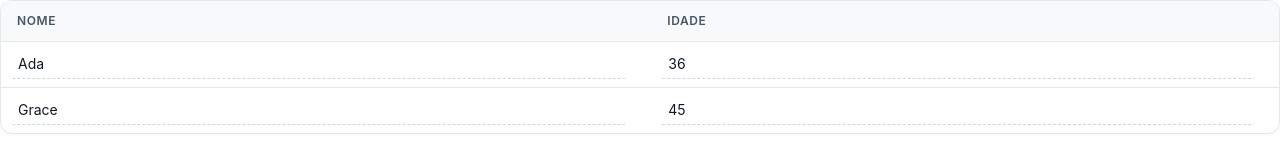
Test: DataTable — Tab walks the editable cells › closes and restores focus past the last editable cell
Click the button named "Editar Idade: 45" at (709,109), box 659,96 -> 1255,125
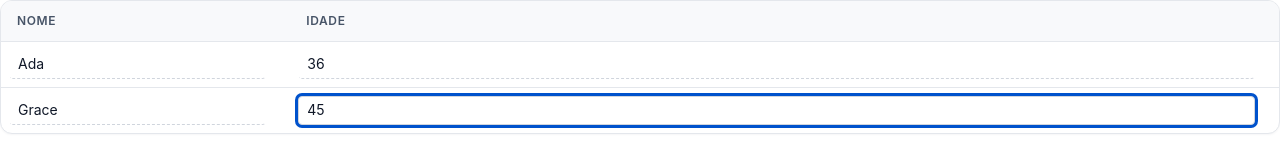
Press Tab
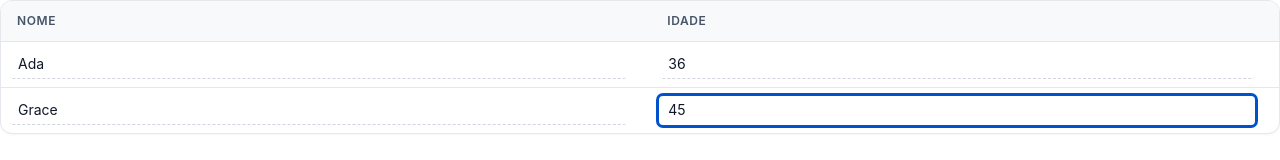
Expected: the field is gone
